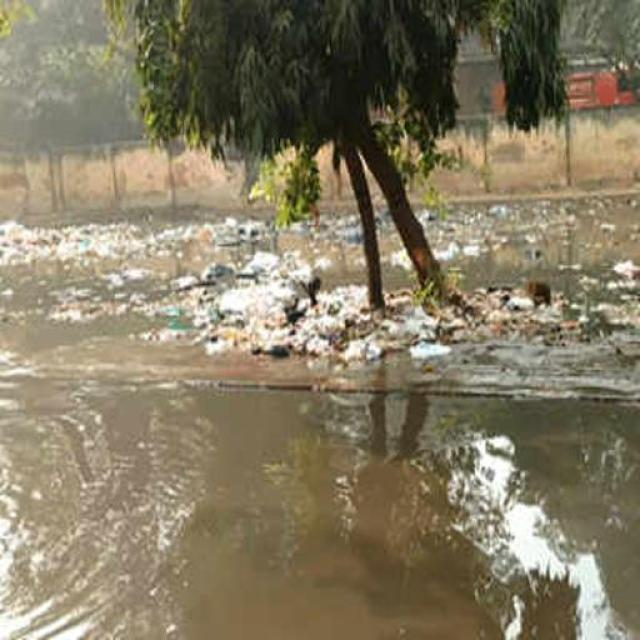puddle: (6, 386, 610, 637), (4, 266, 200, 426), (449, 202, 640, 287)
